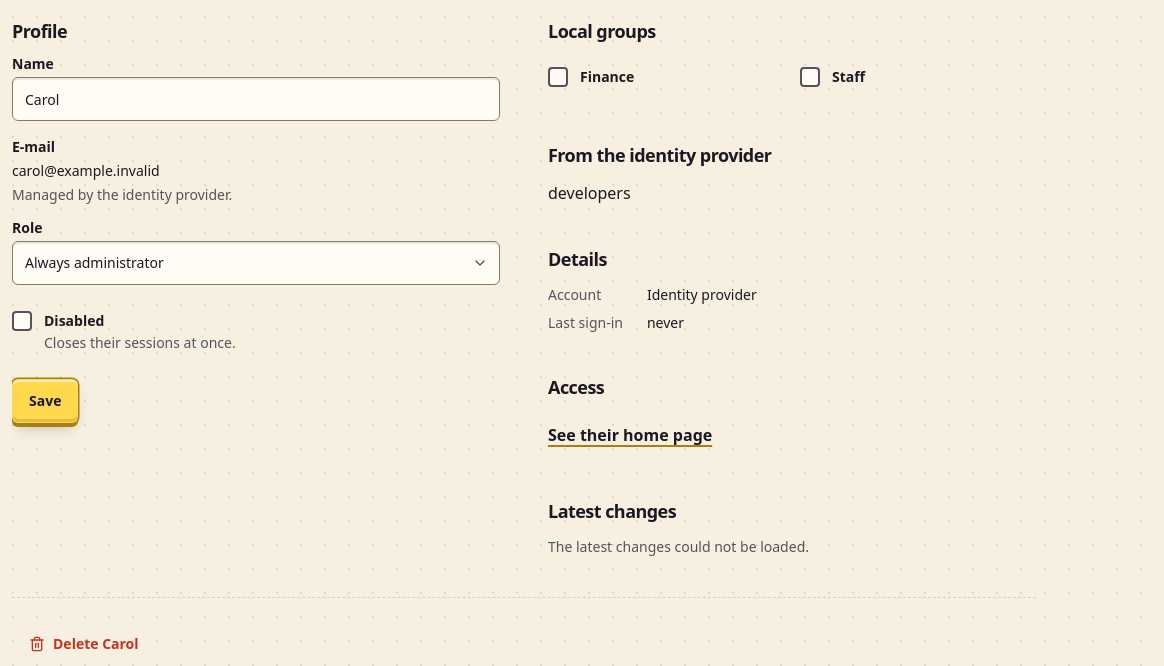
Test case: PersonPage › warns that a provider account comes back at its next sign-in
The image size is (1164, 666).
(page scrolled)
Click the button "Delete Carol" at (84, 644), box top-left (12, 622), bottom-right (156, 665)
(page scrolled)
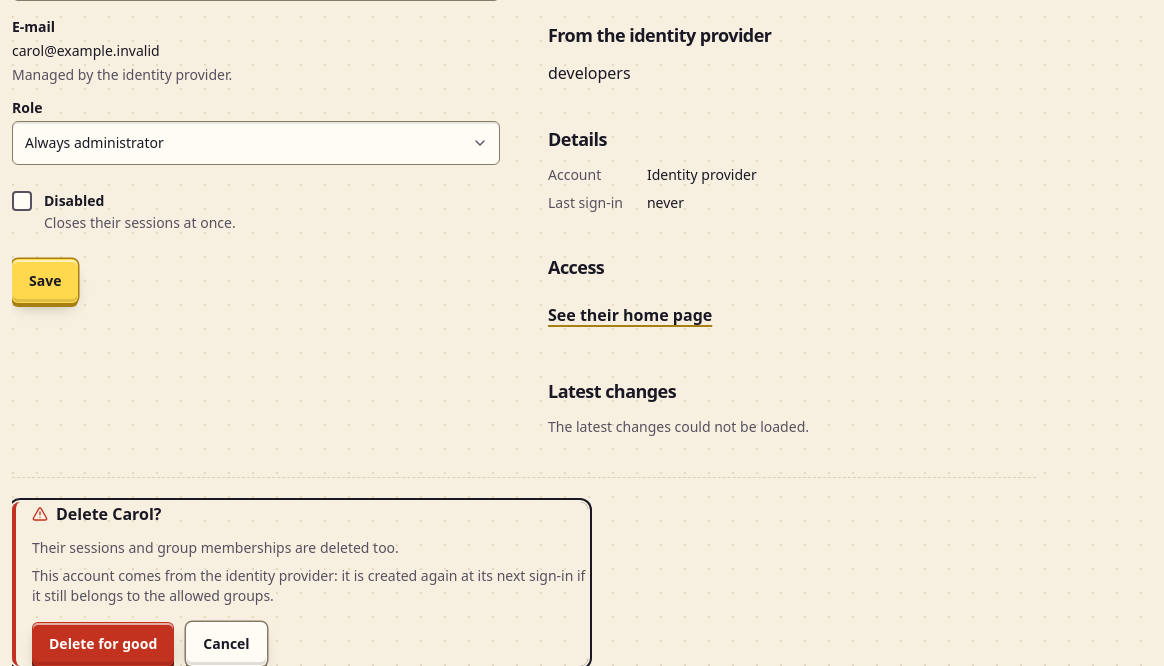
Expected: the element "Delete Carol?" shows "created again at its next sign-in", top-left (32, 566), bottom-right (585, 605)
